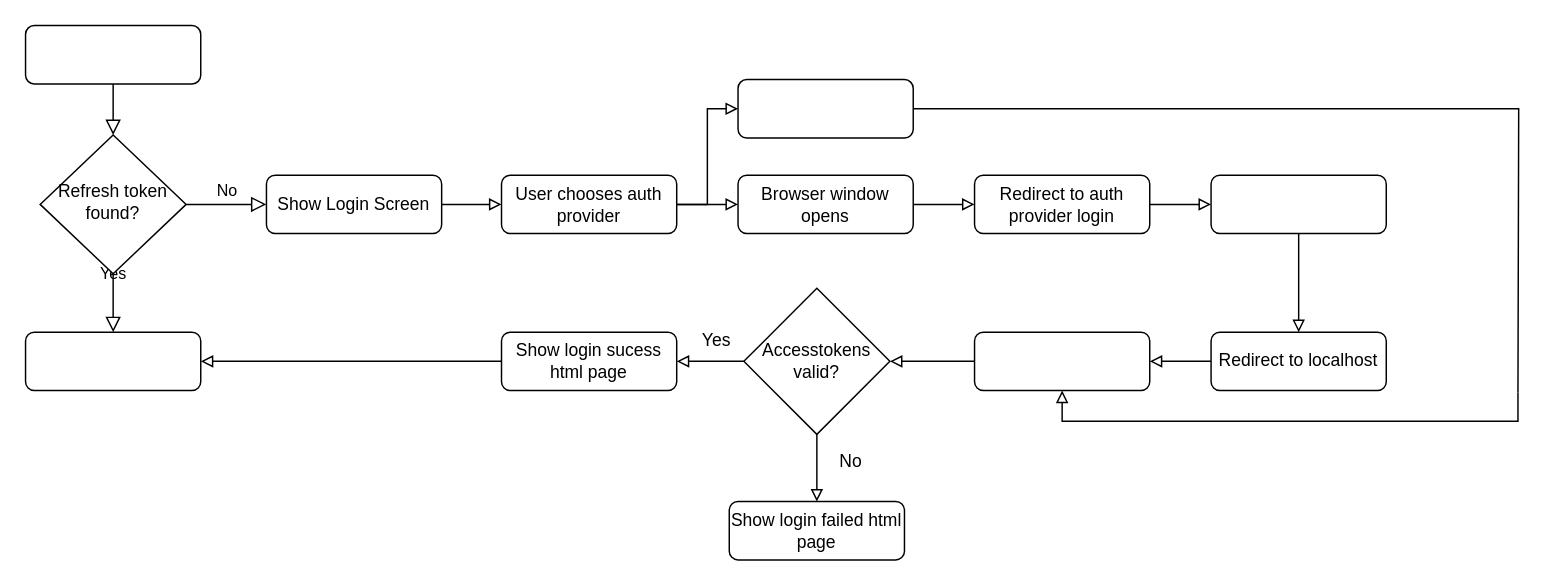
The diagram is 1556 pixels wide and 585 high, and some of its shapes have lost their labels. The box of each missing label's shape, as (x1, y1, x2, y2) in pixels:
Parse accesstokens: (973, 331, 1150, 391)
Portlistener starts: (737, 78, 913, 138)
Show Workspace Screen: (24, 331, 201, 391)
Start arcudoc: (24, 24, 201, 84)
User logs in: (1210, 174, 1386, 234)
